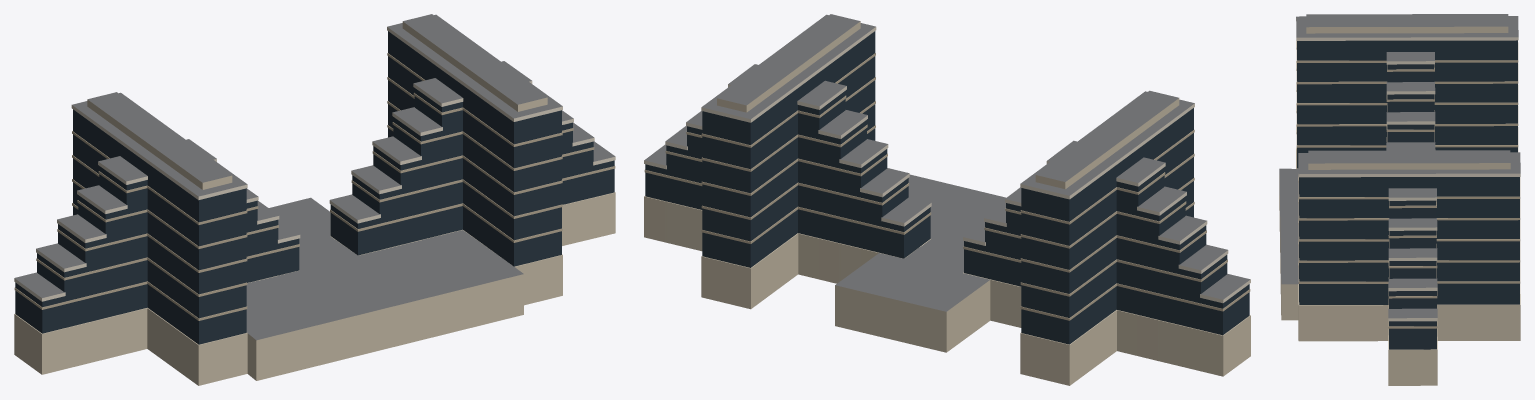
The model's file is bldg_w136520122.glb.
3 renders of one model, left to right at view 1: azimuth 30°, elevation 25°; view 2: azimuth 150°, elevation 25°; view 3: azimuth 270°, elevation 25°, orthographic. The views are drawn at different scales.
Visible parts, largest first — view 1: Bldg_w136520122; view 2: Bldg_w136520122; view 3: Bldg_w136520122.
Part boxes in pixels (x1,y1,x2,y2): Bldg_w136520122: [14, 14, 615, 385]; Bldg_w136520122: [644, 14, 1250, 385]; Bldg_w136520122: [1279, 14, 1520, 385].
Size of the model in its own units: 251 by 82 by 103.
